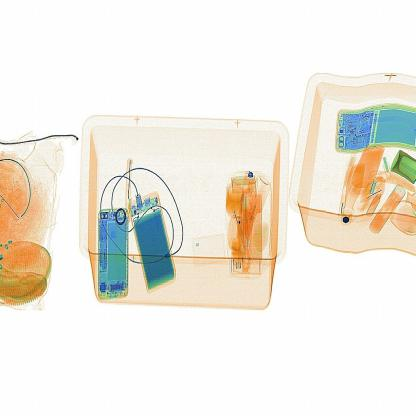pliers: (116, 152, 140, 226)
